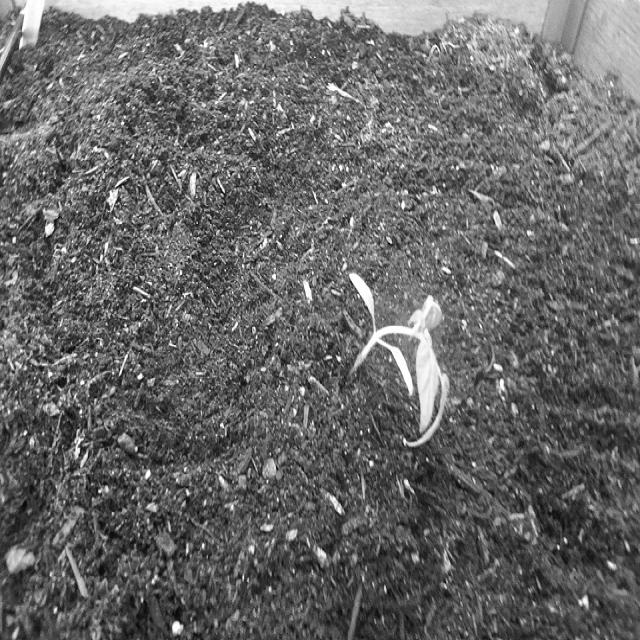Healthy: (344, 265, 452, 458)
